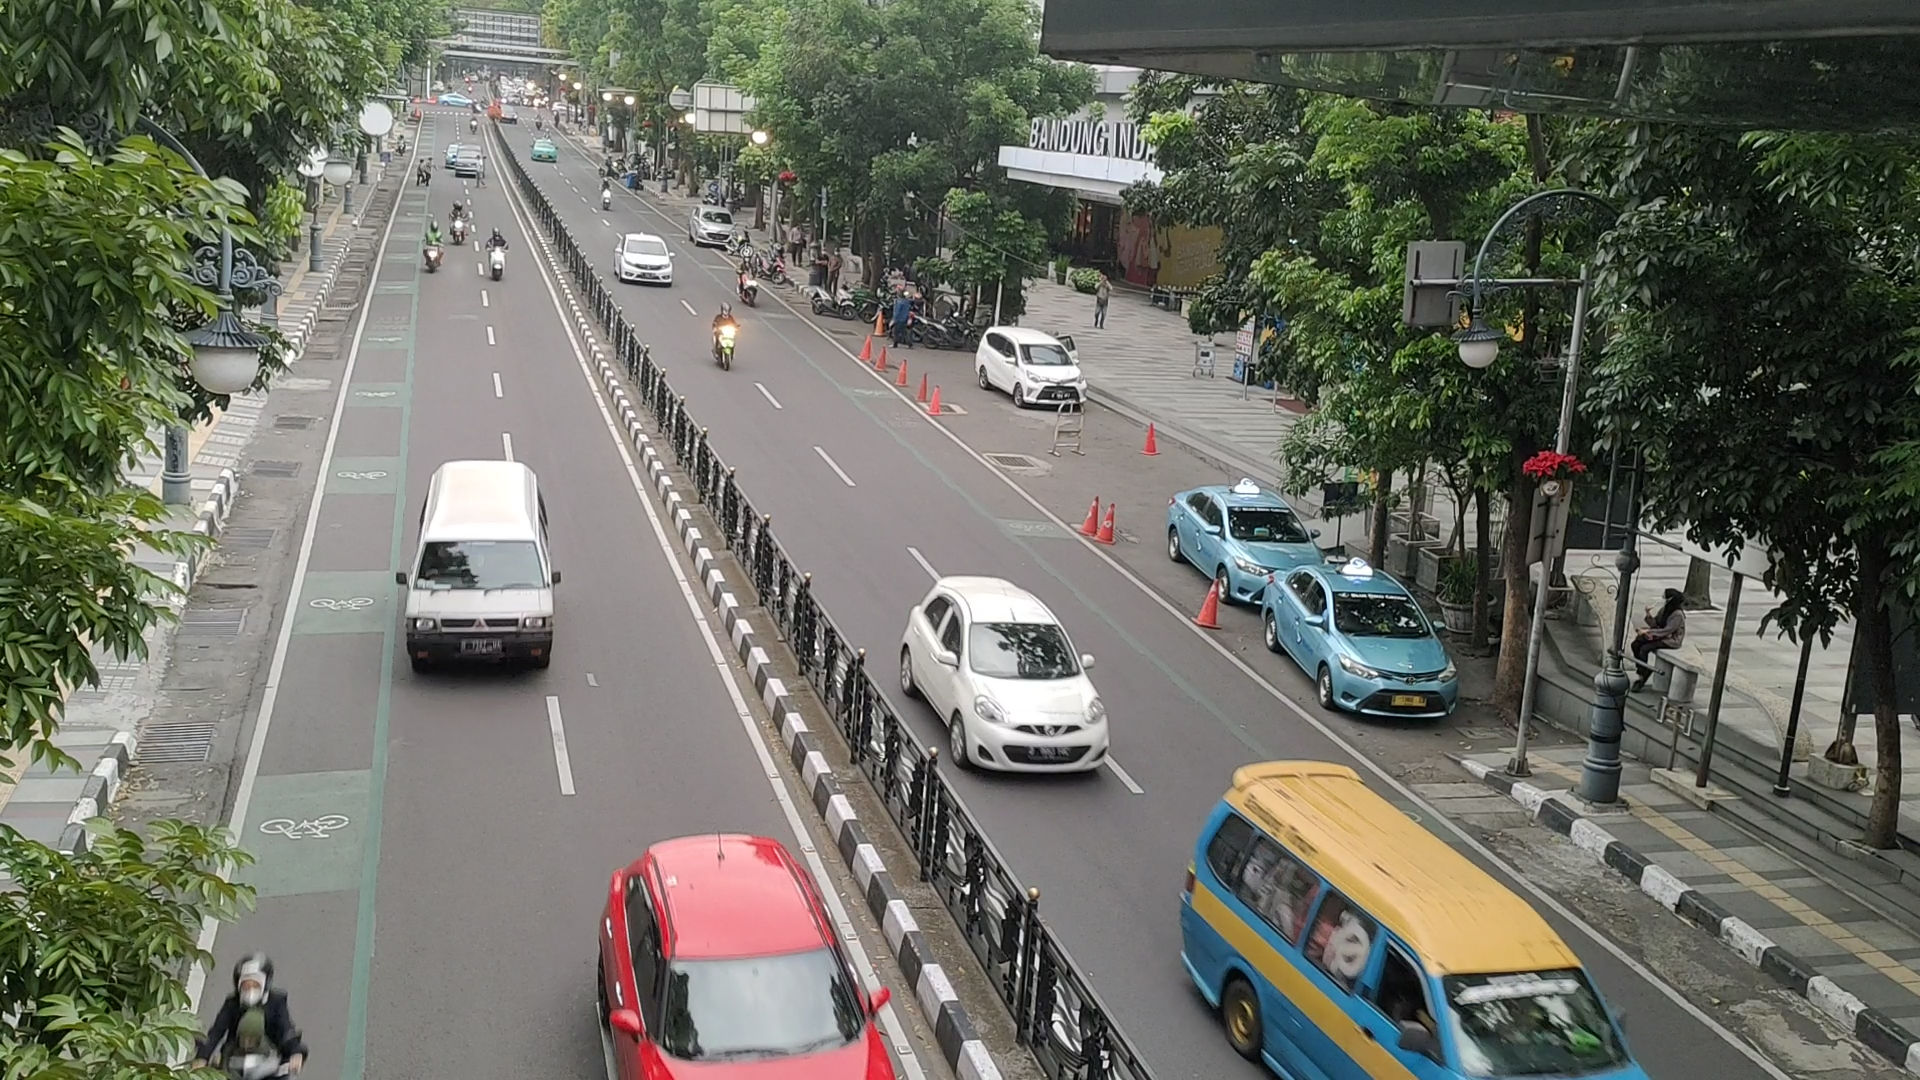mobil: (945, 618, 1114, 785), (396, 531, 555, 682), (1319, 582, 1462, 727), (1010, 336, 1088, 415)
